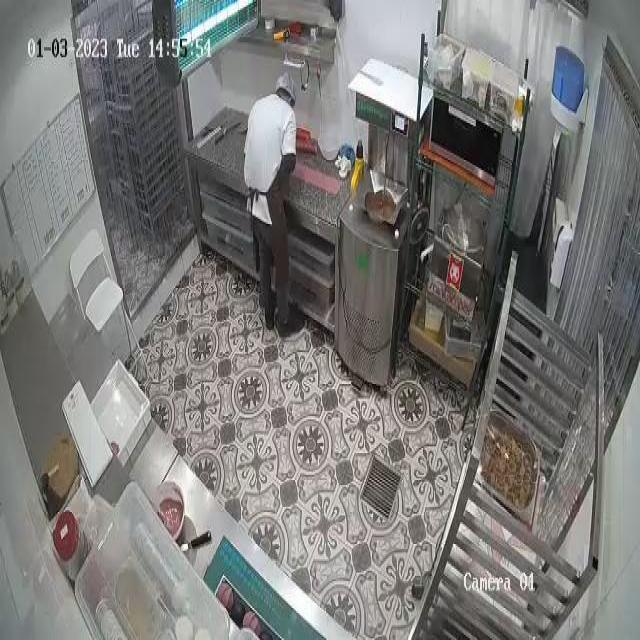hairnet: (278, 73, 296, 99)
